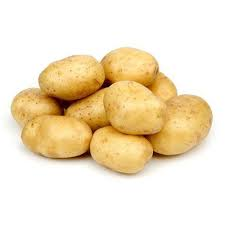potato: (19, 113, 91, 160), (104, 79, 164, 135), (34, 53, 103, 98)
